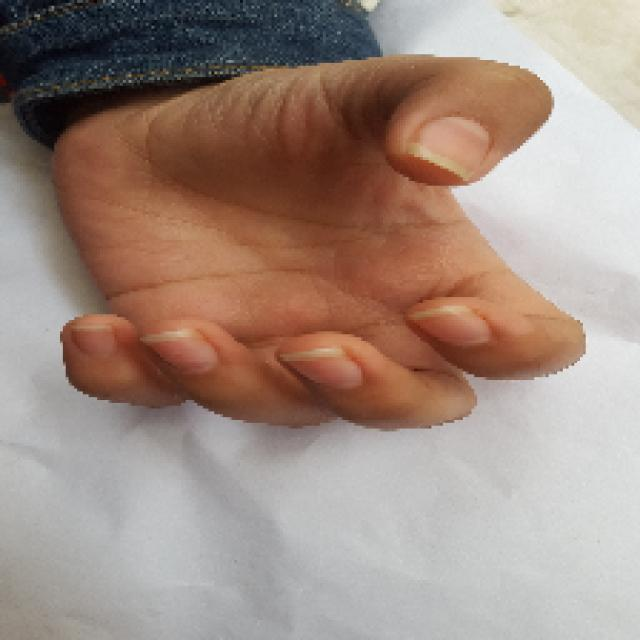Nail: (408, 116, 490, 181), (280, 346, 363, 389), (141, 328, 218, 374), (408, 306, 491, 346), (71, 325, 116, 356)
